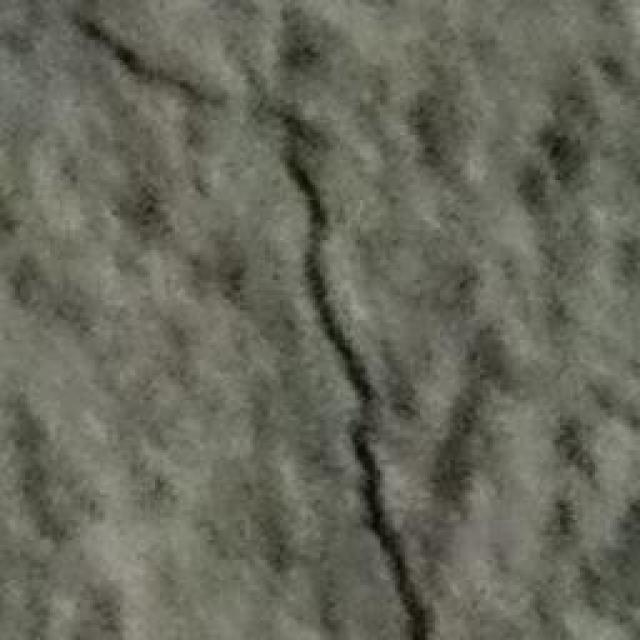Radial: (82, 0, 454, 640)
